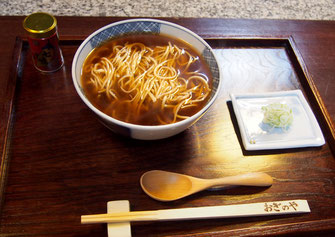Soba: (93, 40, 203, 118)
